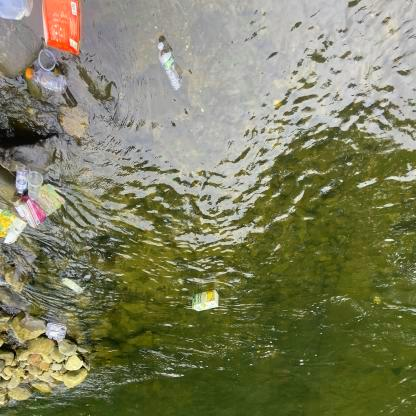Plastic: (22, 52, 72, 98), (154, 36, 187, 94), (1, 0, 36, 30), (43, 316, 69, 344)
